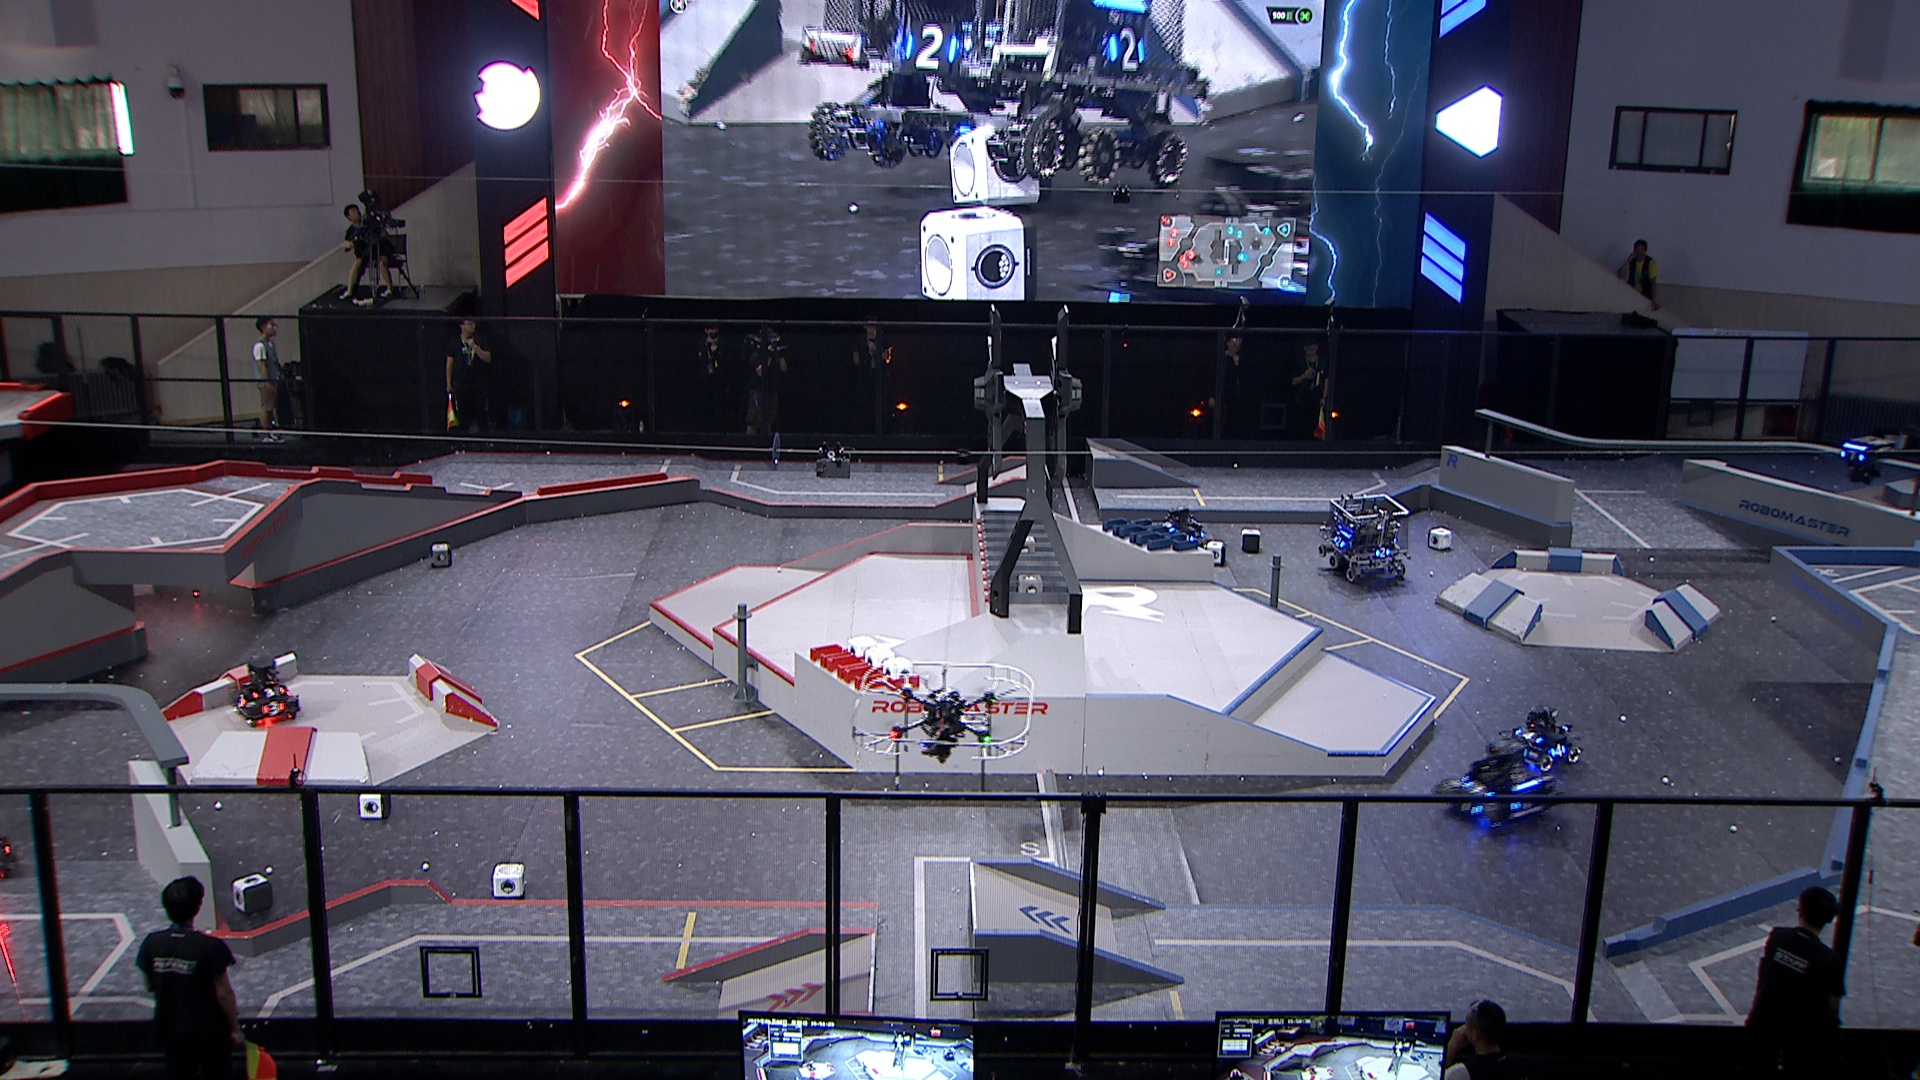armor: (1453, 798, 1485, 818), (1461, 781, 1494, 798), (1513, 727, 1544, 744), (253, 684, 286, 699), (262, 700, 287, 717), (1837, 448, 1866, 463), (1547, 742, 1571, 760), (1371, 545, 1394, 559), (233, 692, 248, 711), (1329, 535, 1349, 549), (1182, 534, 1199, 543)
car: (1433, 740, 1557, 832), (1313, 491, 1416, 584), (225, 654, 302, 731), (1501, 702, 1582, 771), (1150, 506, 1211, 555)
ignore: (1079, 138, 1320, 305)
watcher: (1832, 433, 1888, 485)
